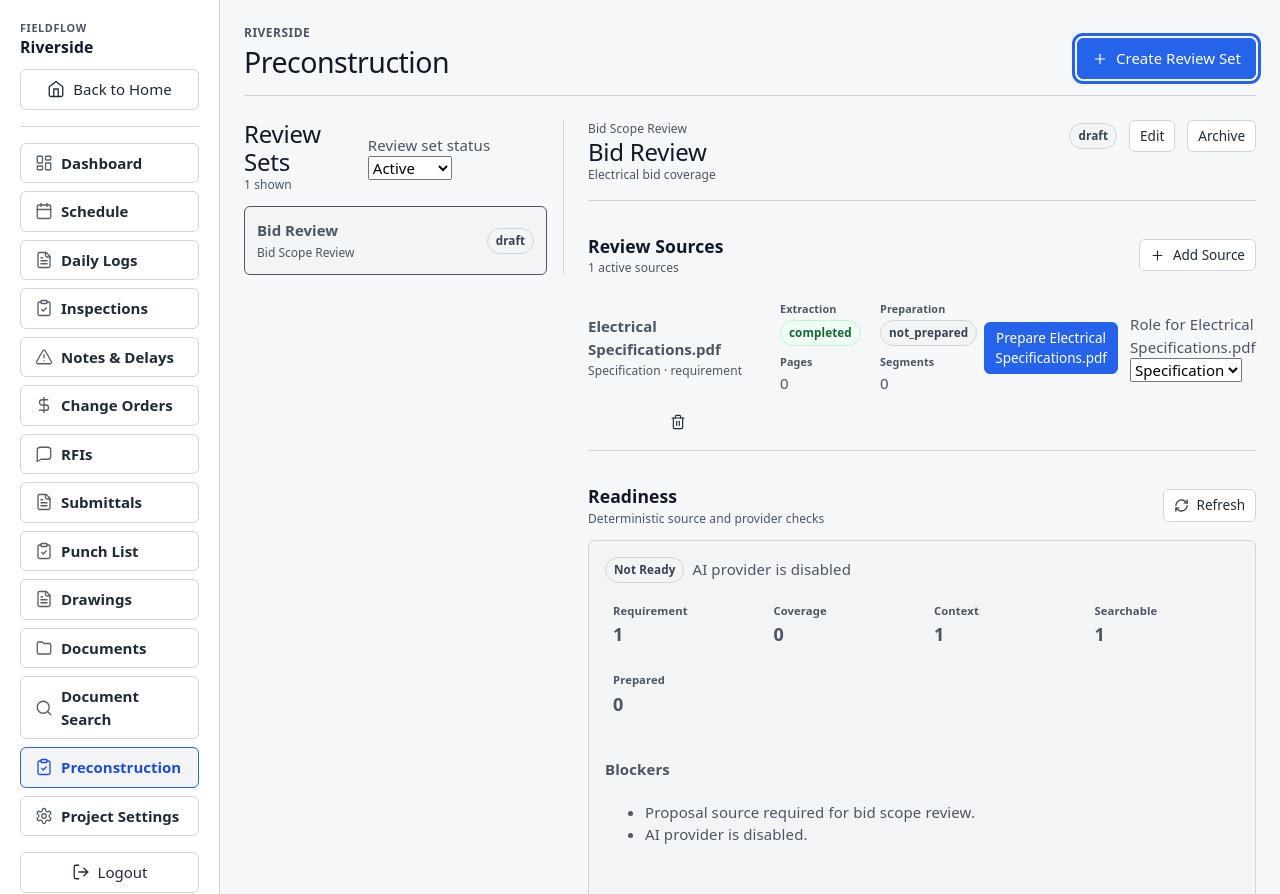
Test case: ProjectPreconstructionPage › creates a review set in a focus-managed dialog
The image size is (1280, 894).
Click the button "Create Review Set".
click(1166, 59)  # box [1077,38,1256,79]
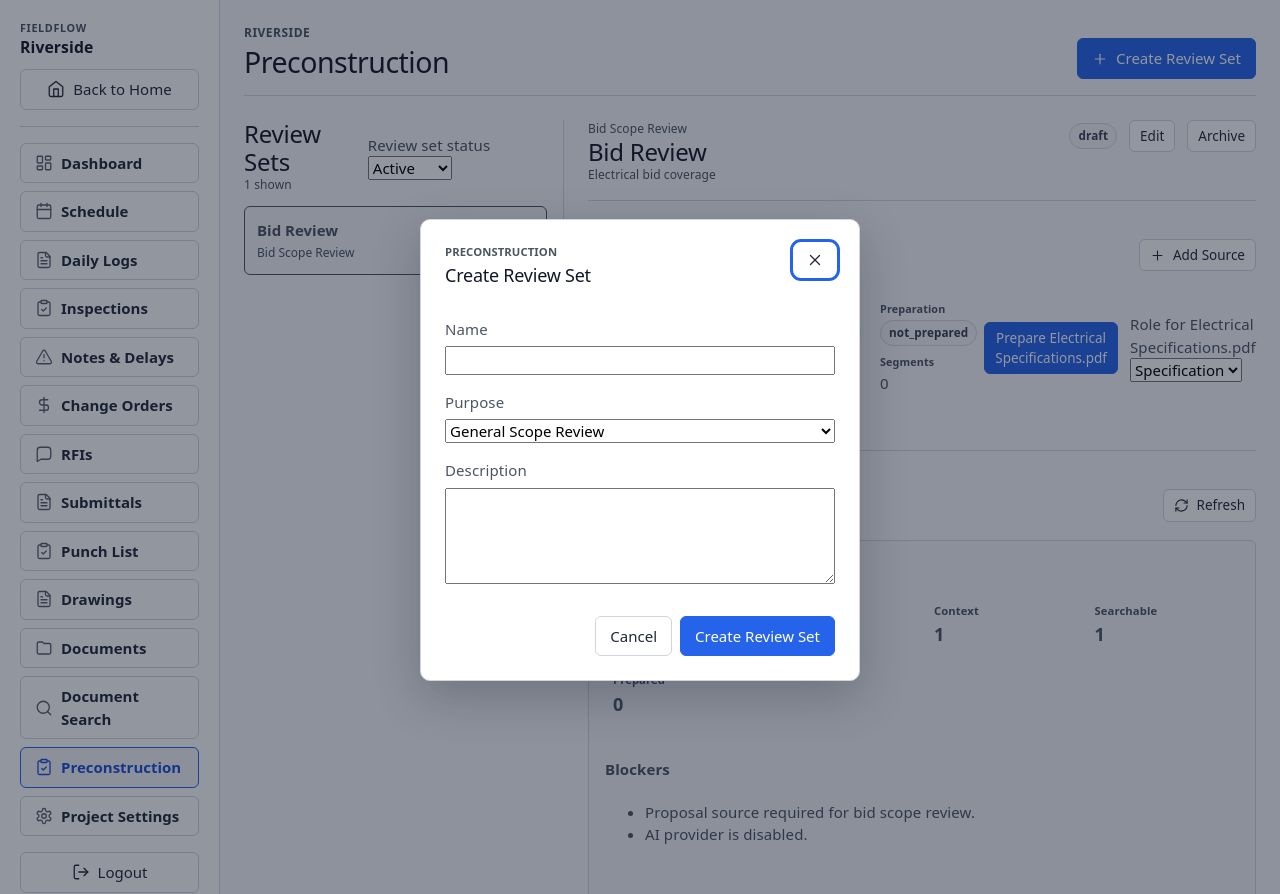
Type "Scope Review" into the field labelled "Name".
click(640, 361); type("Scope Review")  # box [445,346,835,375]
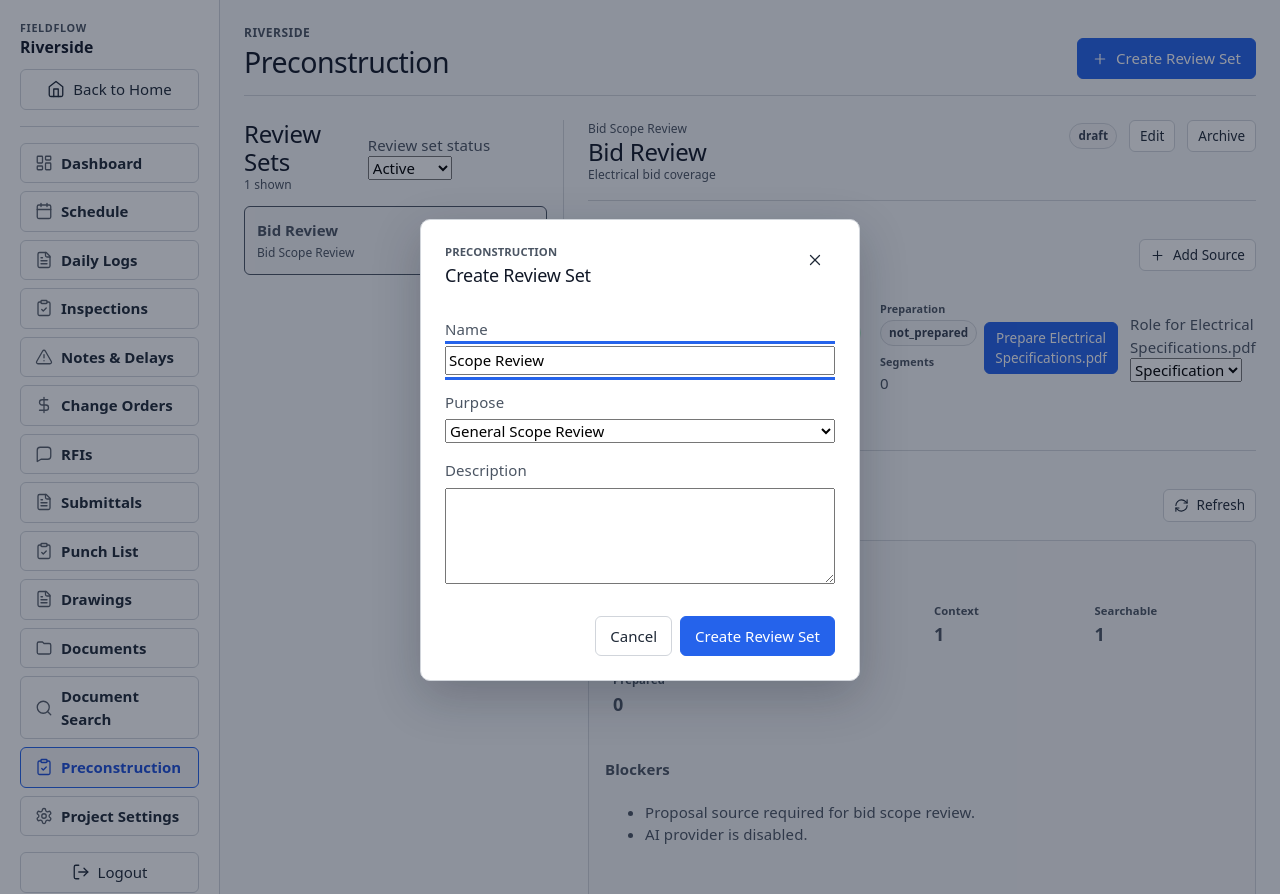
Select "Subcontract Scope Review" in the dropdown labelled "Purpose" at (640, 431), box [445,419,835,443]
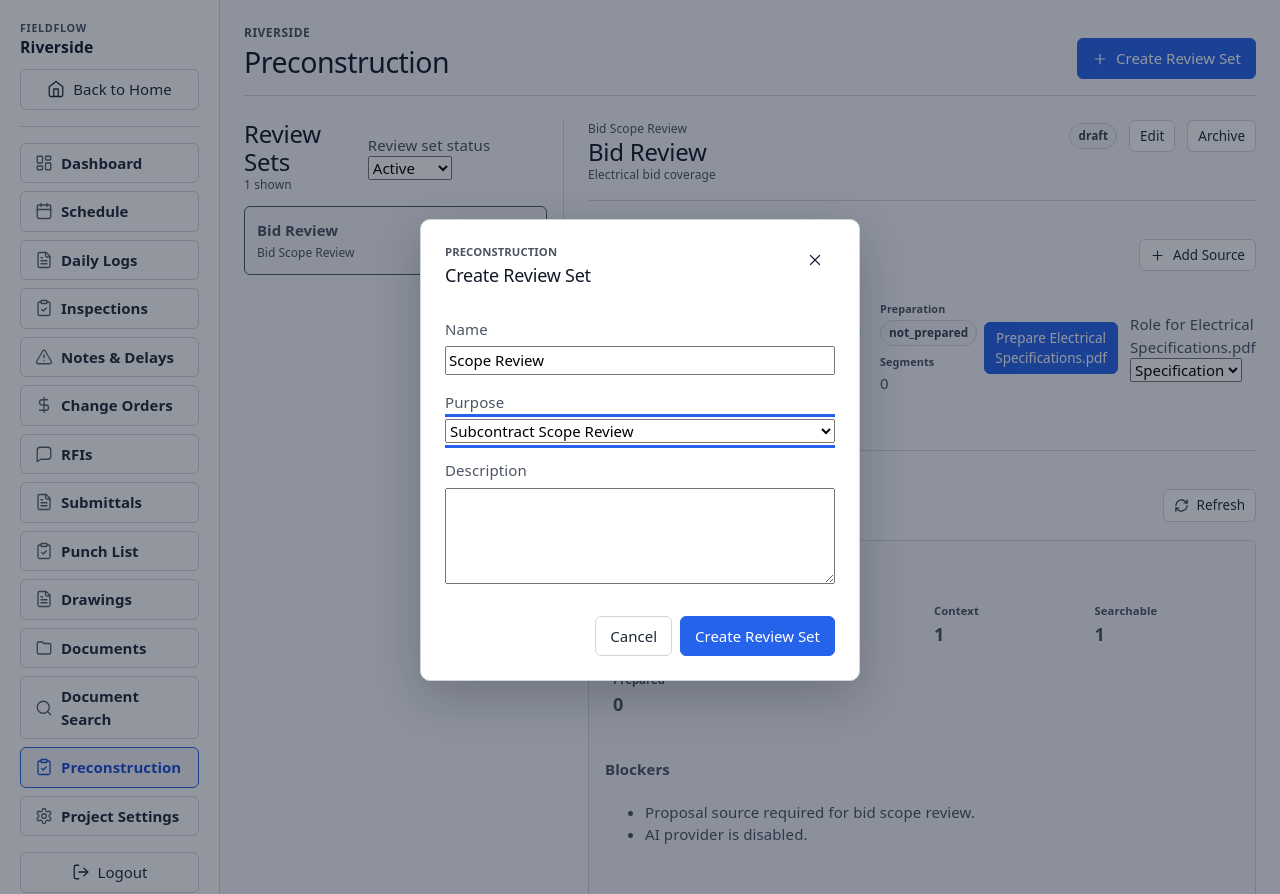
Click the button "Create Review Set".
click(758, 636)  # box [680,616,835,656]
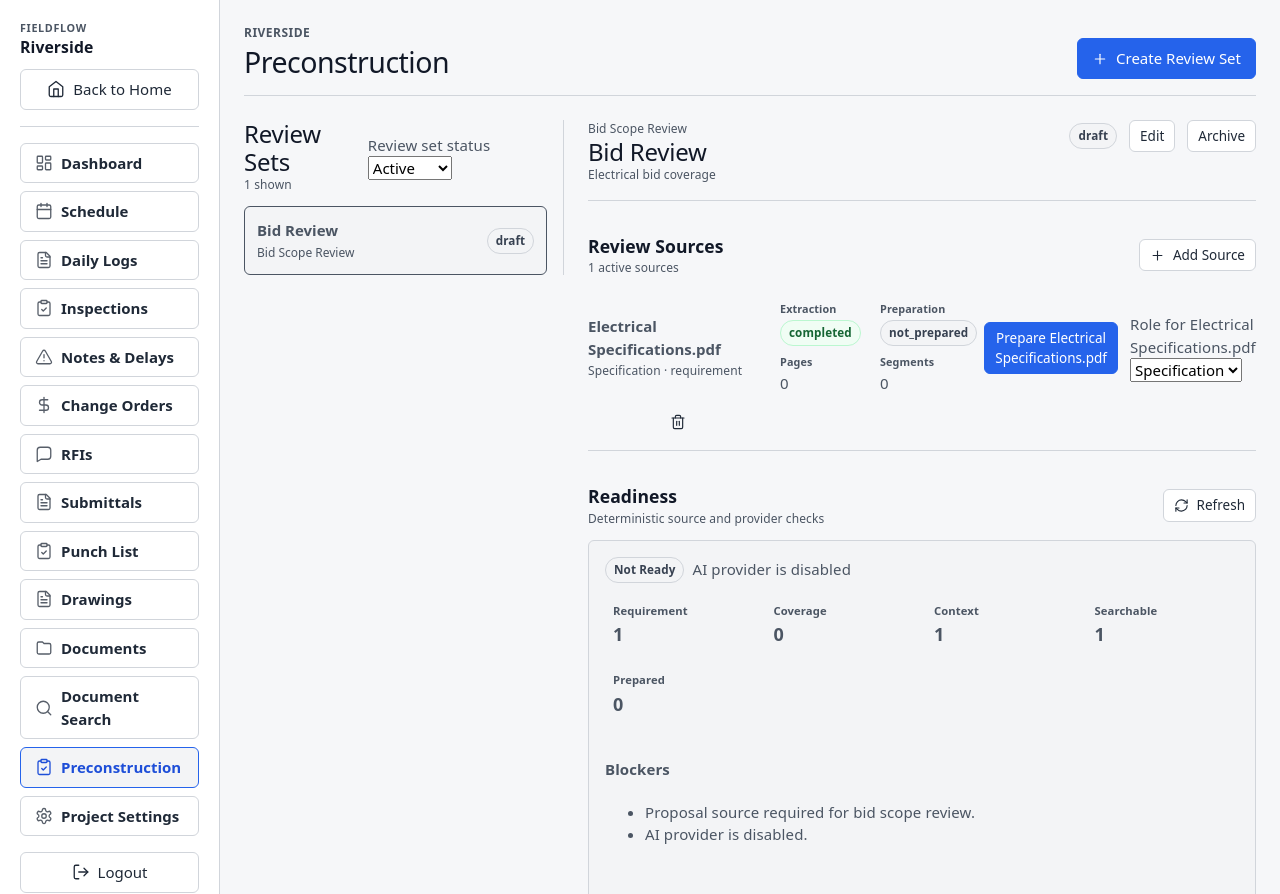
Expected: the dialog is gone
